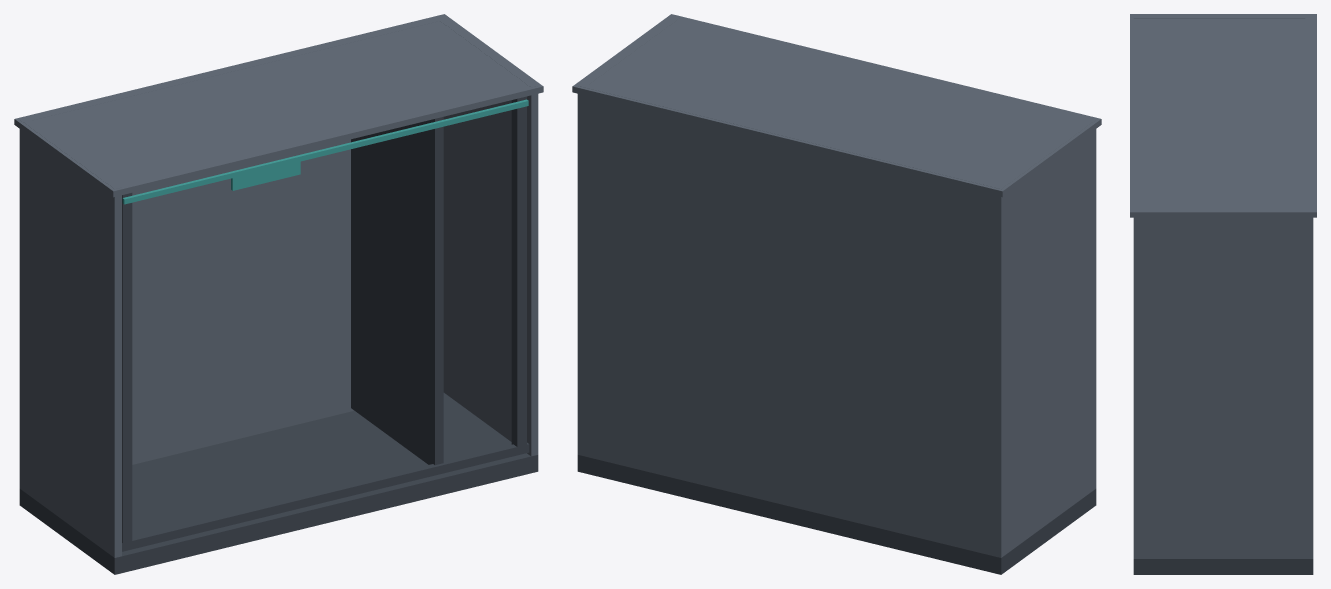
Rendered from ess-cabinet.glb.
3 renders of one model, left to right at view 1: azimuth 30°, elevation 25°; view 2: azimuth 150°, elevation 25°; view 3: azimuth 270°, elevation 25°, orthographic. The views are drawn at different scales.
Visible parts, largest first — view 1: EnergyStorageCabinet; view 2: EnergyStorageCabinet; view 3: EnergyStorageCabinet.
Part boxes in pixels (x1=…): EnergyStorageCabinet: x1=14, y1=14, x2=543, y2=574; EnergyStorageCabinet: x1=572, y1=14, x2=1101, y2=574; EnergyStorageCabinet: x1=1130, y1=14, x2=1316, y2=574.
Size of the model in its own units: 2.66 by 2.28 by 1.06.
